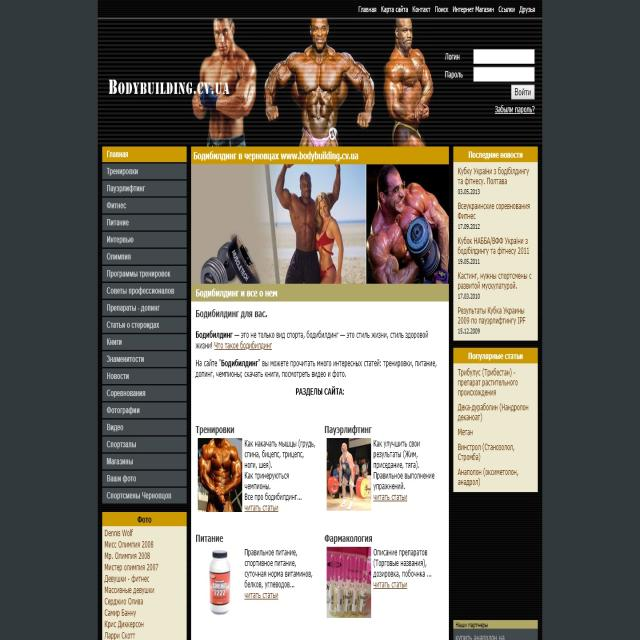button: (104, 316, 185, 333), (104, 488, 185, 505), (104, 231, 186, 247), (104, 248, 186, 264), (104, 470, 185, 486), (104, 266, 184, 282), (104, 334, 184, 350), (104, 350, 184, 366), (104, 453, 186, 468), (104, 215, 185, 230), (103, 386, 184, 401), (102, 198, 186, 212), (103, 182, 186, 196), (104, 147, 186, 161), (104, 420, 186, 434), (104, 301, 185, 315), (105, 284, 185, 298), (102, 165, 186, 178), (103, 439, 185, 452), (103, 370, 184, 383), (104, 406, 185, 418), (450, 1, 496, 17), (378, 2, 409, 18), (355, 1, 377, 17), (409, 2, 432, 17), (496, 1, 518, 16), (511, 86, 534, 100), (518, 0, 536, 16), (432, 1, 449, 17)
field: (473, 66, 534, 82), (474, 48, 533, 64)
heading: (108, 72, 231, 98), (193, 149, 360, 161), (195, 288, 278, 300), (196, 308, 270, 321), (323, 532, 374, 546), (295, 384, 345, 398), (195, 420, 236, 437), (468, 352, 525, 363), (466, 150, 525, 160), (323, 425, 373, 436), (194, 532, 225, 544), (135, 514, 157, 526)
image: (97, 17, 541, 146), (191, 162, 449, 284), (197, 438, 242, 513), (326, 438, 372, 509), (327, 548, 371, 618), (198, 548, 242, 616)
label: (445, 70, 464, 81), (444, 52, 460, 62)
link: (212, 337, 275, 352), (243, 500, 281, 516), (494, 103, 536, 116), (243, 589, 280, 602), (372, 579, 411, 591), (372, 492, 410, 503)
text: (103, 528, 160, 640), (243, 437, 317, 515), (195, 357, 438, 380), (194, 330, 430, 350), (373, 440, 437, 505), (243, 547, 314, 603), (372, 548, 436, 594), (456, 164, 531, 196), (458, 236, 531, 268), (456, 271, 530, 301), (456, 306, 530, 336), (457, 365, 522, 399), (457, 202, 531, 230), (456, 402, 528, 424), (456, 464, 517, 489), (458, 442, 516, 461), (458, 426, 474, 438)
